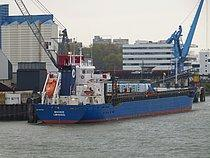Ship: (32, 56, 197, 129)
